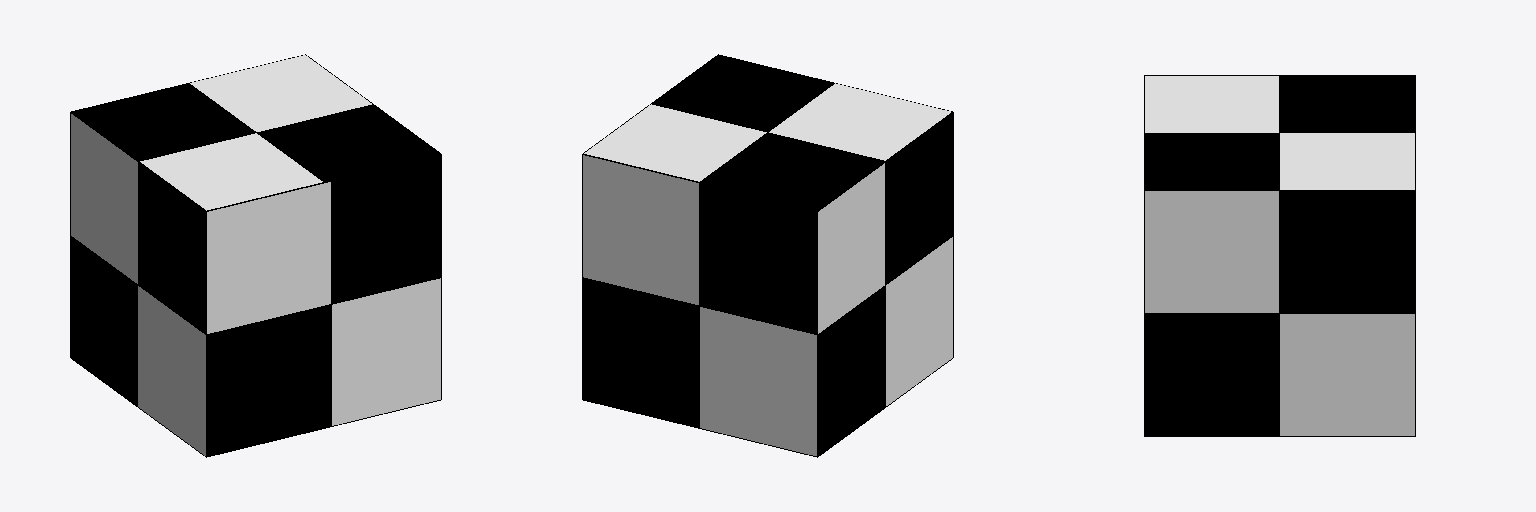
3 views of the same model, side by side, from view 1: azimuth 30°, elevation 25°; view 2: azimuth 150°, elevation 25°; view 3: azimuth 270°, elevation 25° (orthographic).
Visible parts, largest first — view 1: Cube; view 2: Cube; view 3: Cube.
Boxes of the visible parts, <box> form: Cube: <box>70,54,441,457</box>; Cube: <box>582,54,953,457</box>; Cube: <box>1144,75,1415,436</box>.
Size of the model in its own units: 2 by 2 by 2.
Materials: 1 (1 with a texture image).